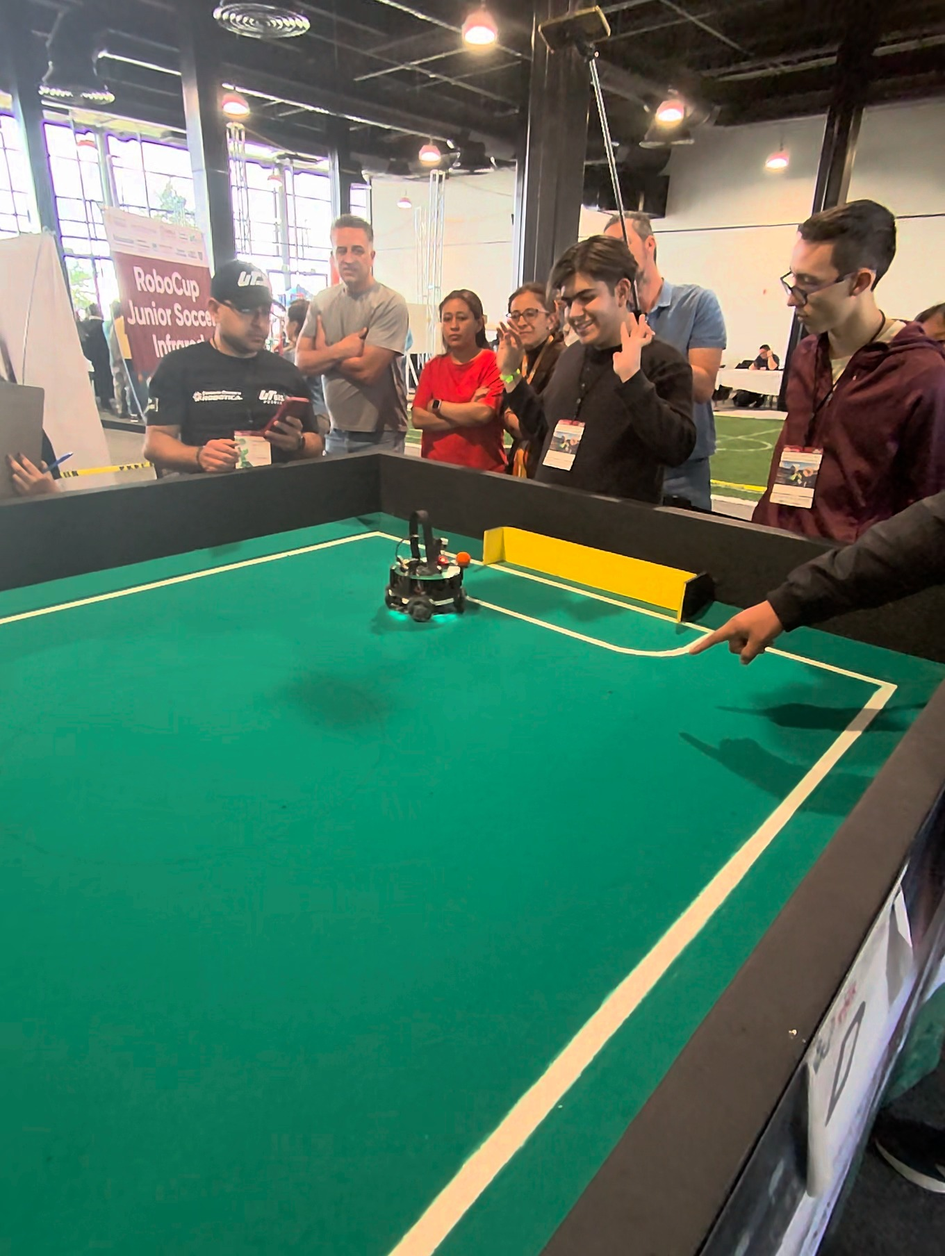Robot: (382, 506, 469, 633)
pelota: (444, 536, 482, 568)
